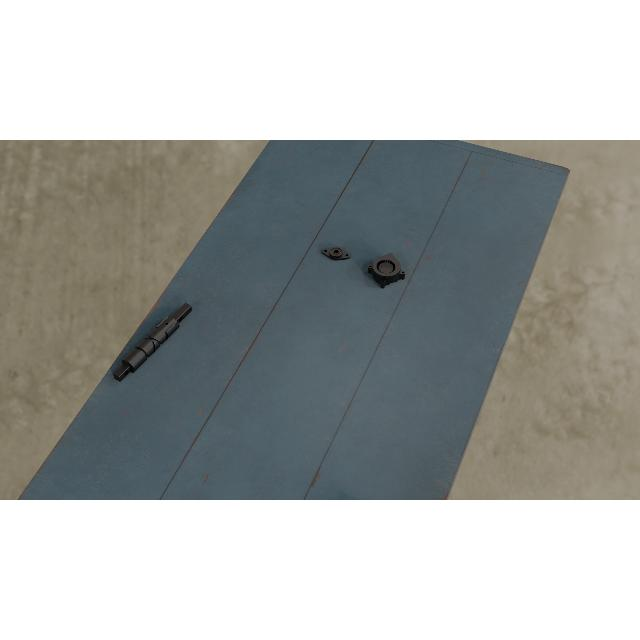Pieza1: (108, 298, 195, 386)
Pieza2: (320, 243, 352, 263)
Pieza3: (367, 252, 408, 290)
